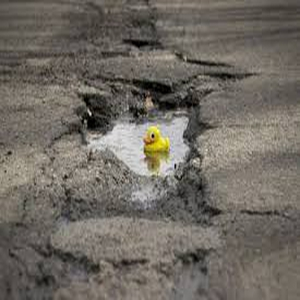pothole: (80, 81, 213, 227)
